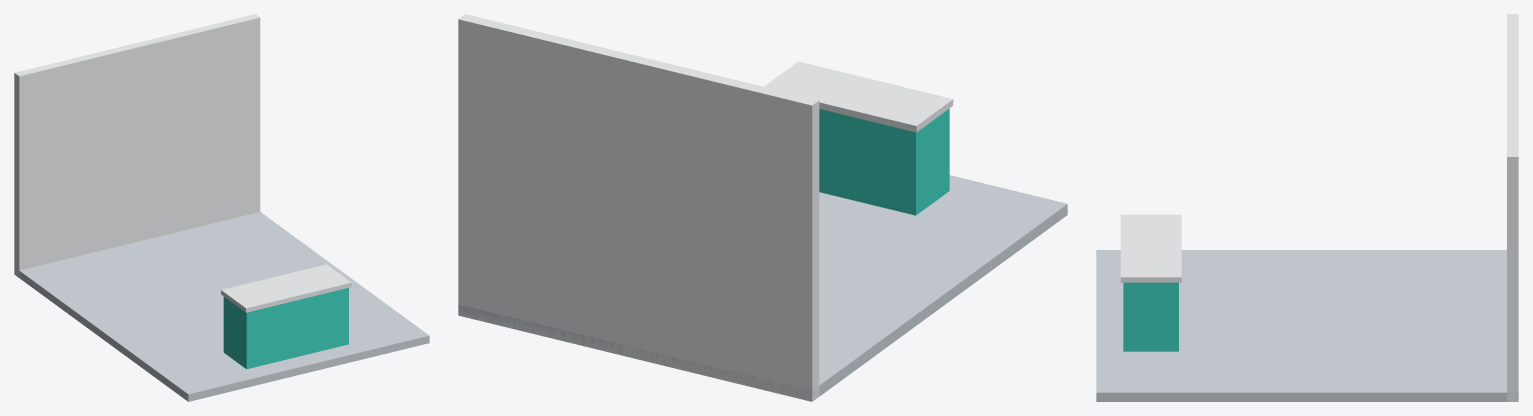
3 renders of one model, left to right at view 1: azimuth 30°, elevation 25°; view 2: azimuth 150°, elevation 25°; view 3: azimuth 270°, elevation 25°, orthographic. The views are drawn at different scales.
Parts seen in each view (by area): view 1: Exhibition Booth Concept; view 2: Exhibition Booth Concept; view 3: Exhibition Booth Concept.
Boxes of the visible parts, <box> form: Exhibition Booth Concept: <box>14,14,429,401</box>; Exhibition Booth Concept: <box>458,14,1067,401</box>; Exhibition Booth Concept: <box>1096,14,1518,401</box>.
Size of the model in its own units: 4 by 3.2 by 5.
